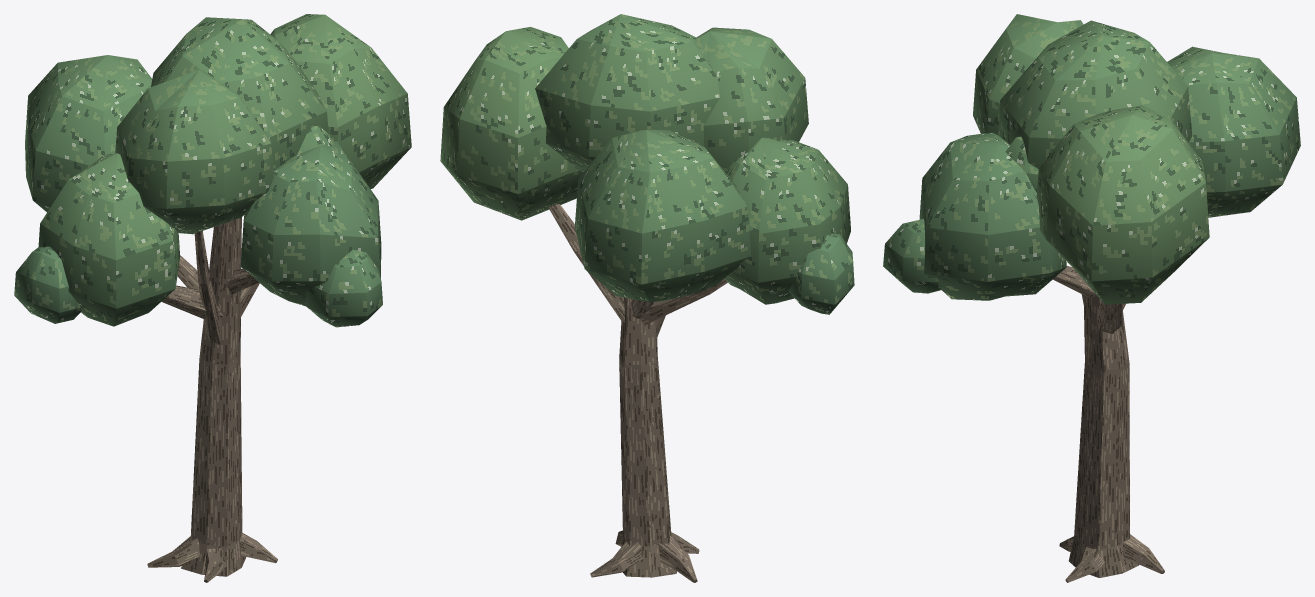
File: t_tree_cottonwood.glb
3 renders of one model, left to right at view 1: azimuth 30°, elevation 25°; view 2: azimuth 150°, elevation 25°; view 3: azimuth 270°, elevation 25°, orthographic.
Parts seen in each view (by area): view 1: t_tree_cottonwood_mesh; view 2: t_tree_cottonwood_mesh; view 3: t_tree_cottonwood_mesh.
Boxes of the visible parts, x1,y1,x2,y2 form: t_tree_cottonwood_mesh: (14, 14, 411, 582); t_tree_cottonwood_mesh: (440, 14, 854, 582); t_tree_cottonwood_mesh: (883, 14, 1300, 582).
Size of the model in its own units: 3.6 by 4.8 by 3.36.
Materials: 1 (1 with a texture image).
